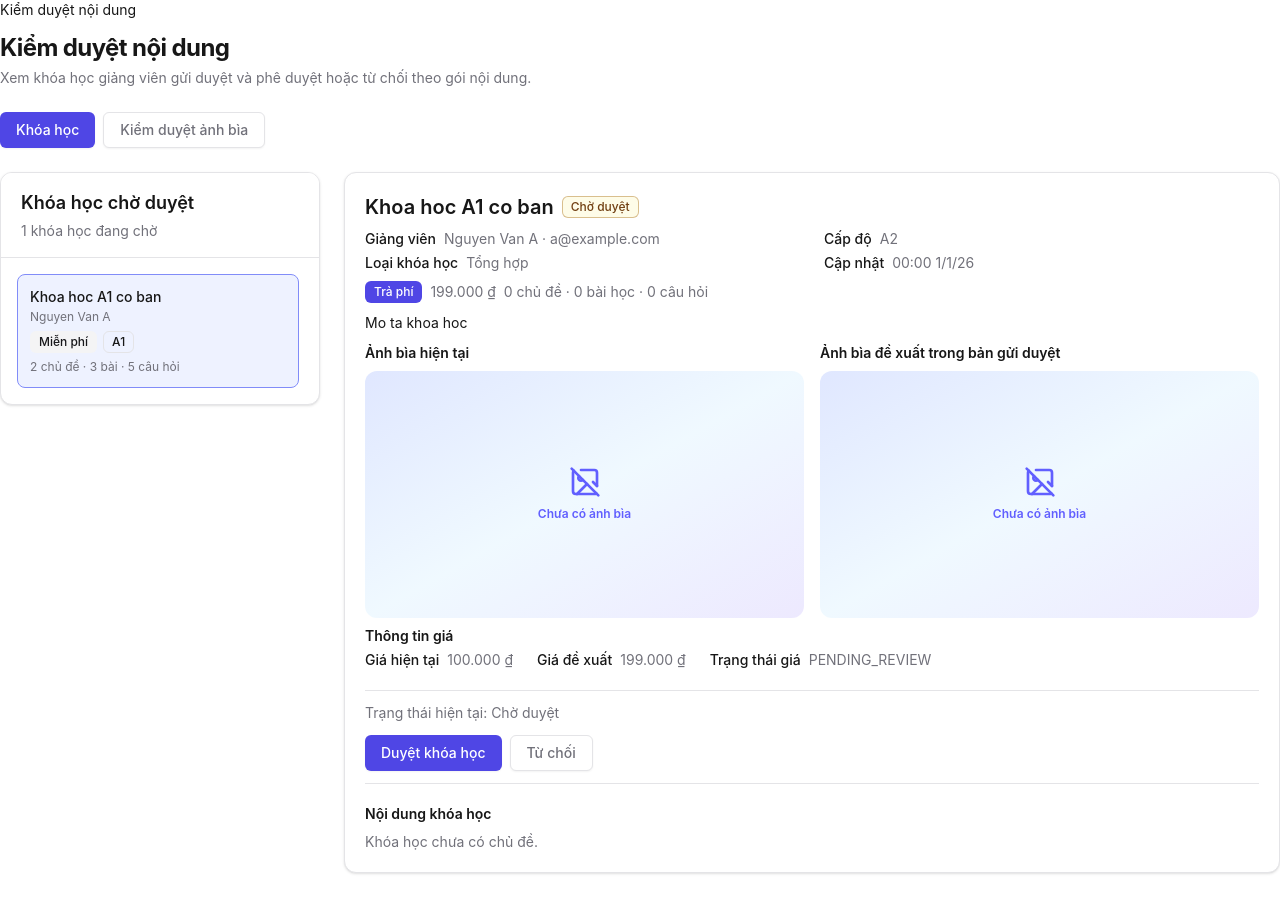
AdminContentReviewPage shadcn sync › keeps the approve dialog open with loading state and shows the error inside the dialog on failure
Check: the heading "Khoa hoc A1 co ban" is shown, box x1=365 y1=193 x2=554 y2=221
Click the button "Duyệt khóa học".
click(433, 753)  # box x1=365 y1=735 x2=502 y2=771
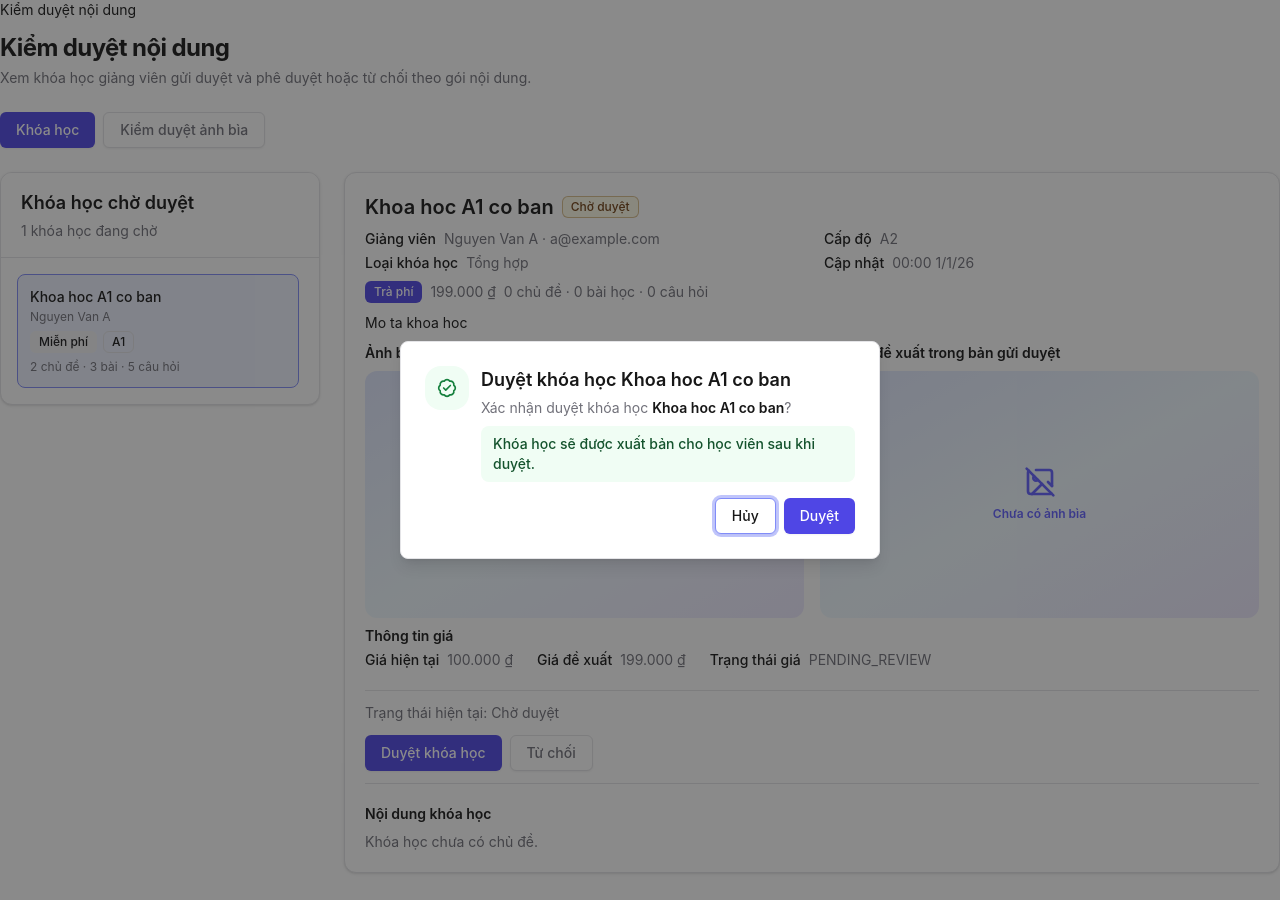
Click the button "Duyệt".
click(819, 516)  # box x1=784 y1=498 x2=855 y2=534
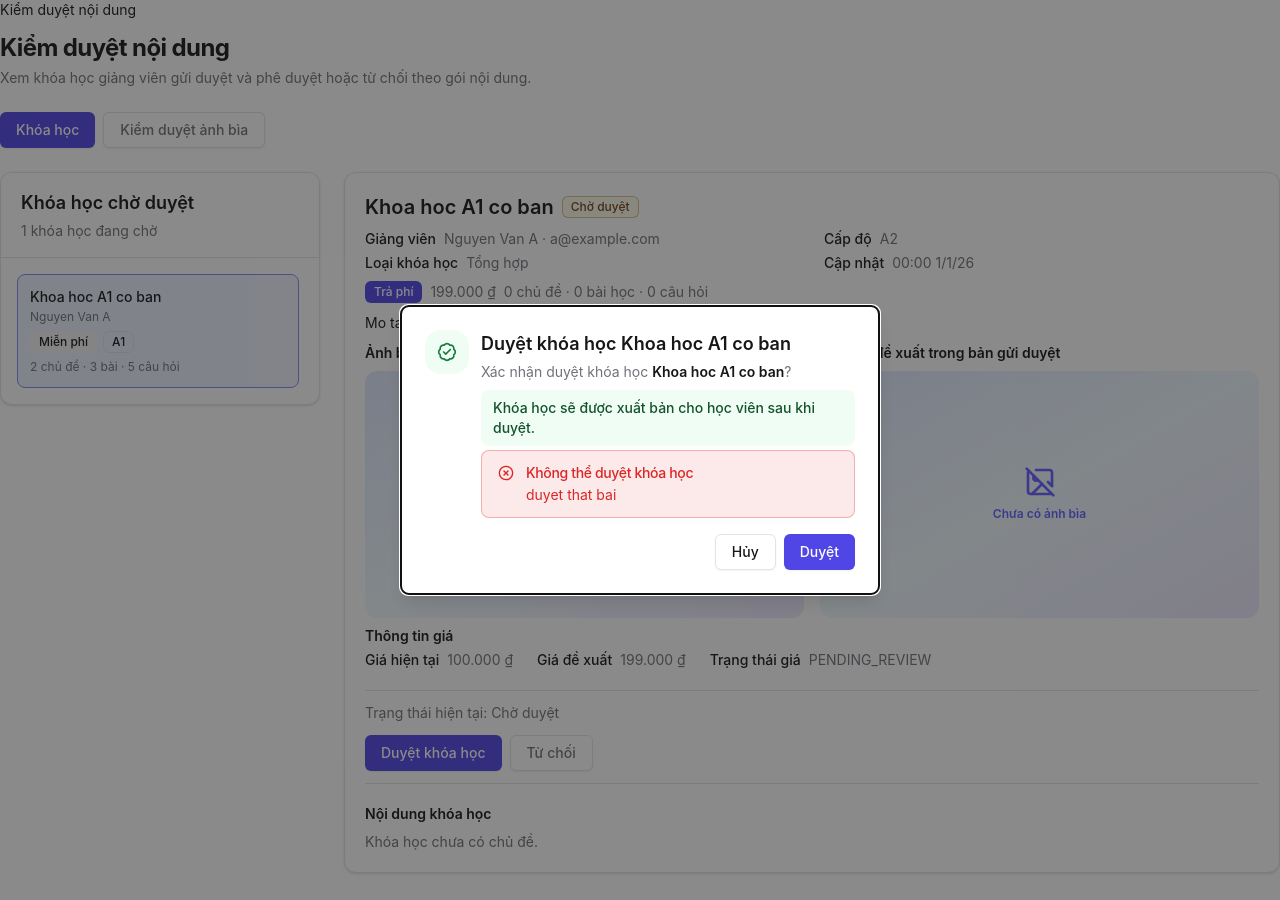
Check: the dialog is shown, box x1=400 y1=305 x2=880 y2=595
Check: the text "duyet that bai" is shown, box x1=526 y1=486 x2=616 y2=503
